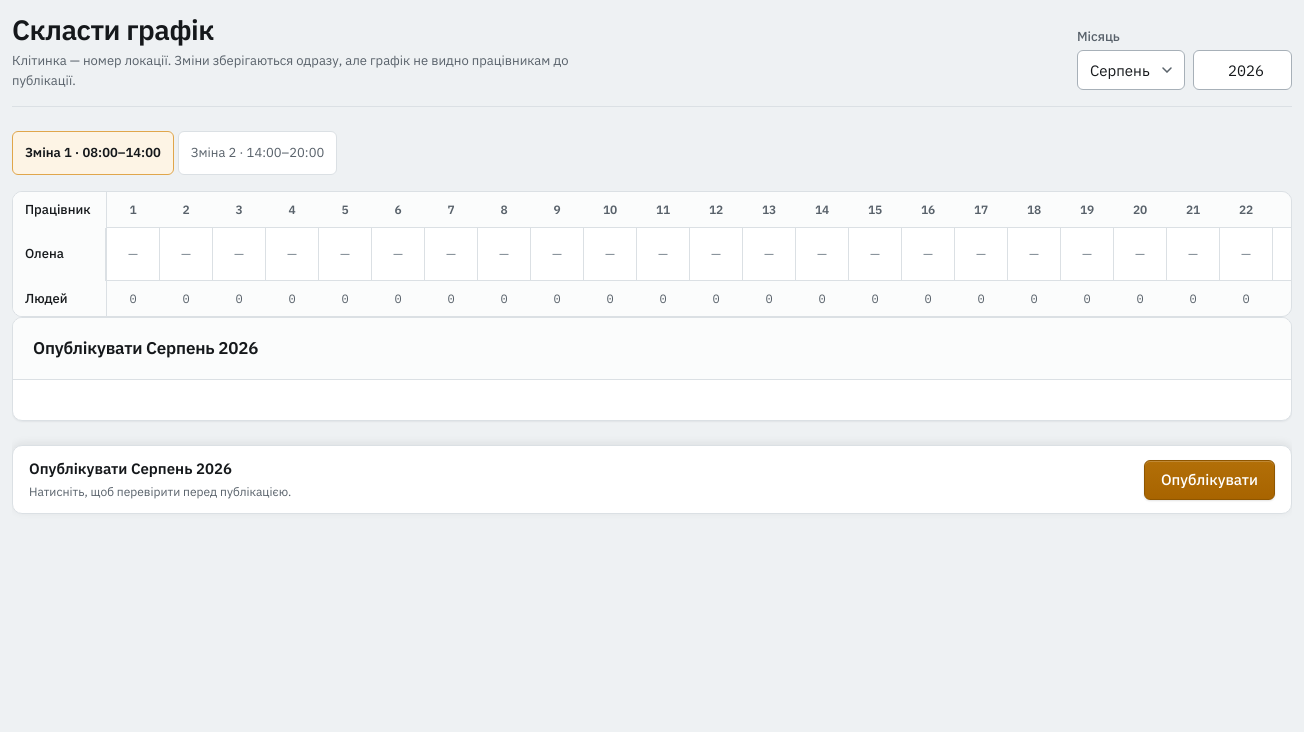
Test: PublishPanel › renders the overlap blocker from a refused publish
Expected: the column heading "Олена" is shown, [13,228,107,280]
Click the button "Опублікувати": (1209, 480) [1144,460,1275,500]
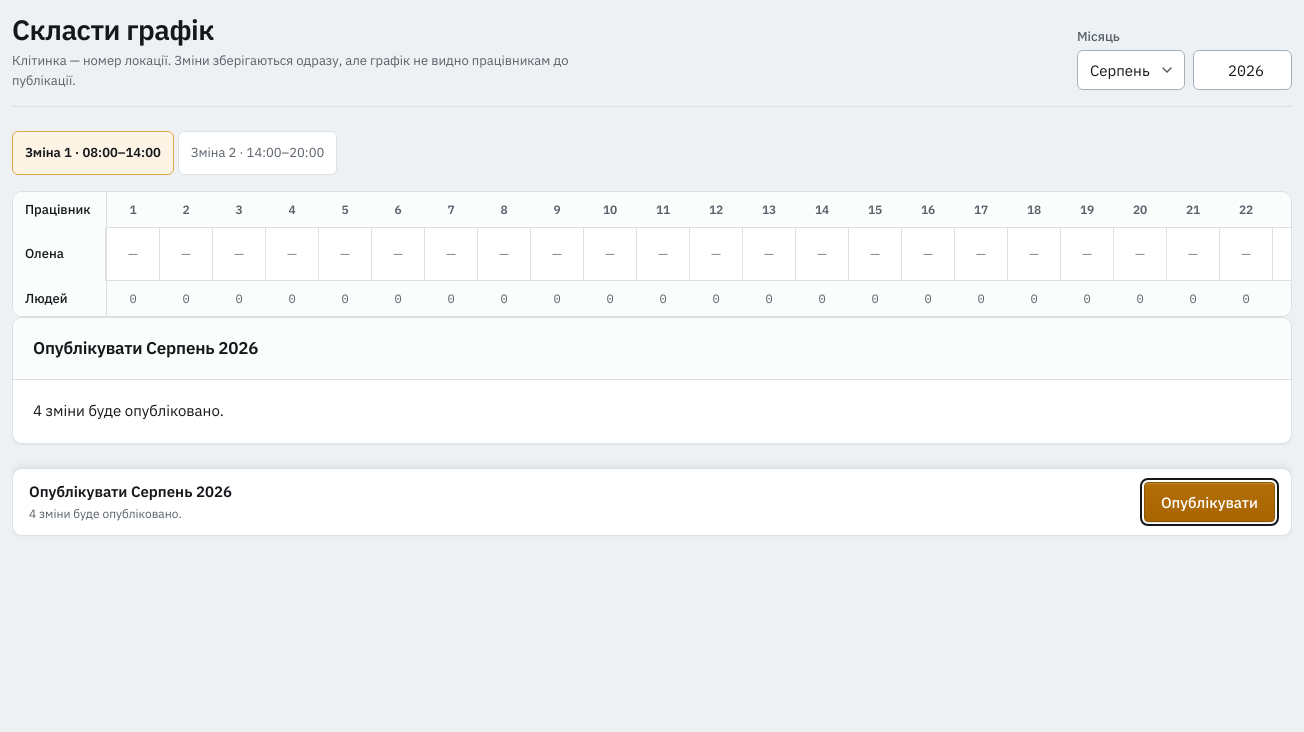
# Preview first, then the publish attempt.
Click the button "Опублікувати": (1209, 502) [1144,482,1275,522]
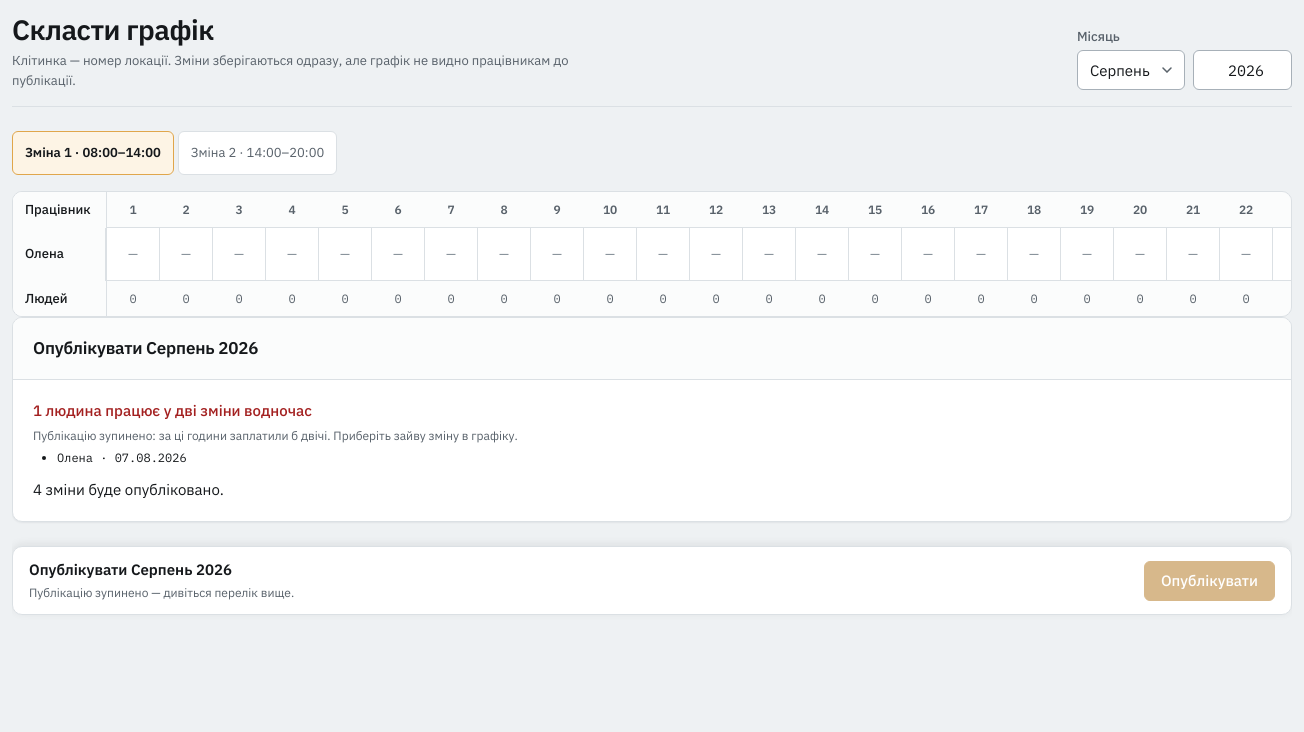
Result: the text "Публікацію зупинено: за ці години заплатили б двічі. Приберіть зайву зміну в графіку." is shown at [33,428,518,443]
Result: the list item shows "Олена" at [57,450,93,465]
